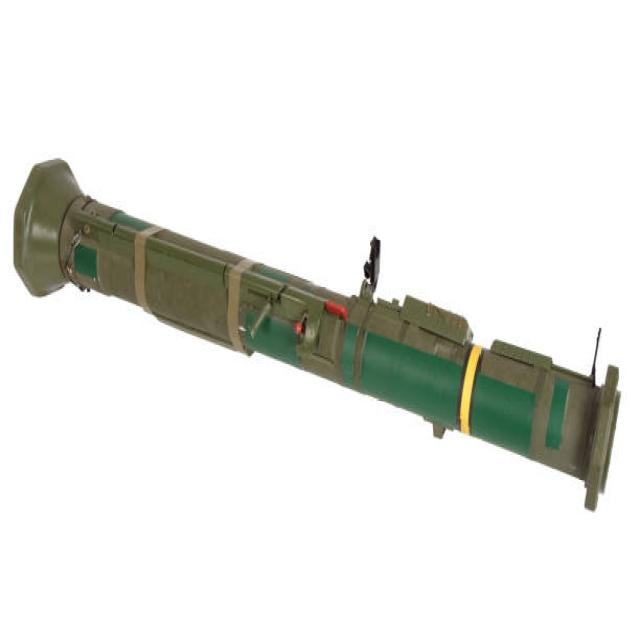bazooka: (10, 146, 626, 522)
